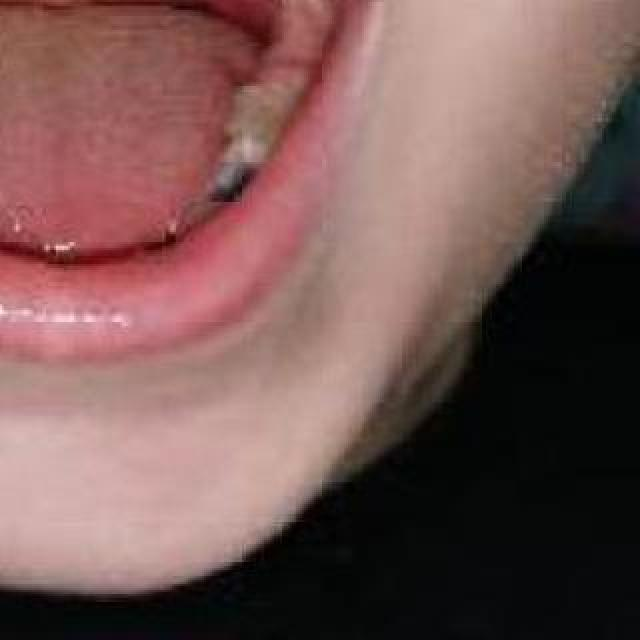cavities: (199, 127, 273, 217)
